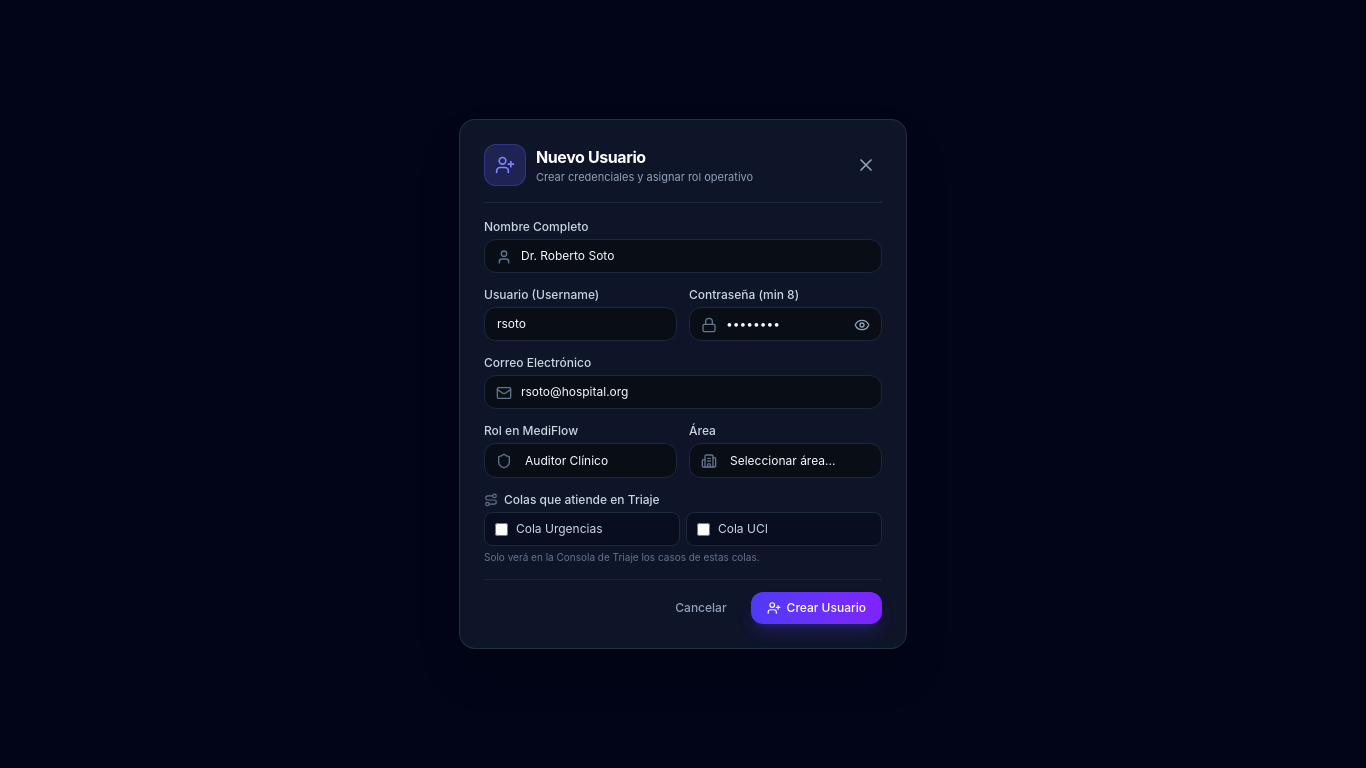
Scenario: UserFormModal user management and role assignment › validates password minimum length of 8 characters during creation
In the field labelled "Nombre Completo": (683, 256) [484,239,882,273], type "Dra. Ana Lopez"
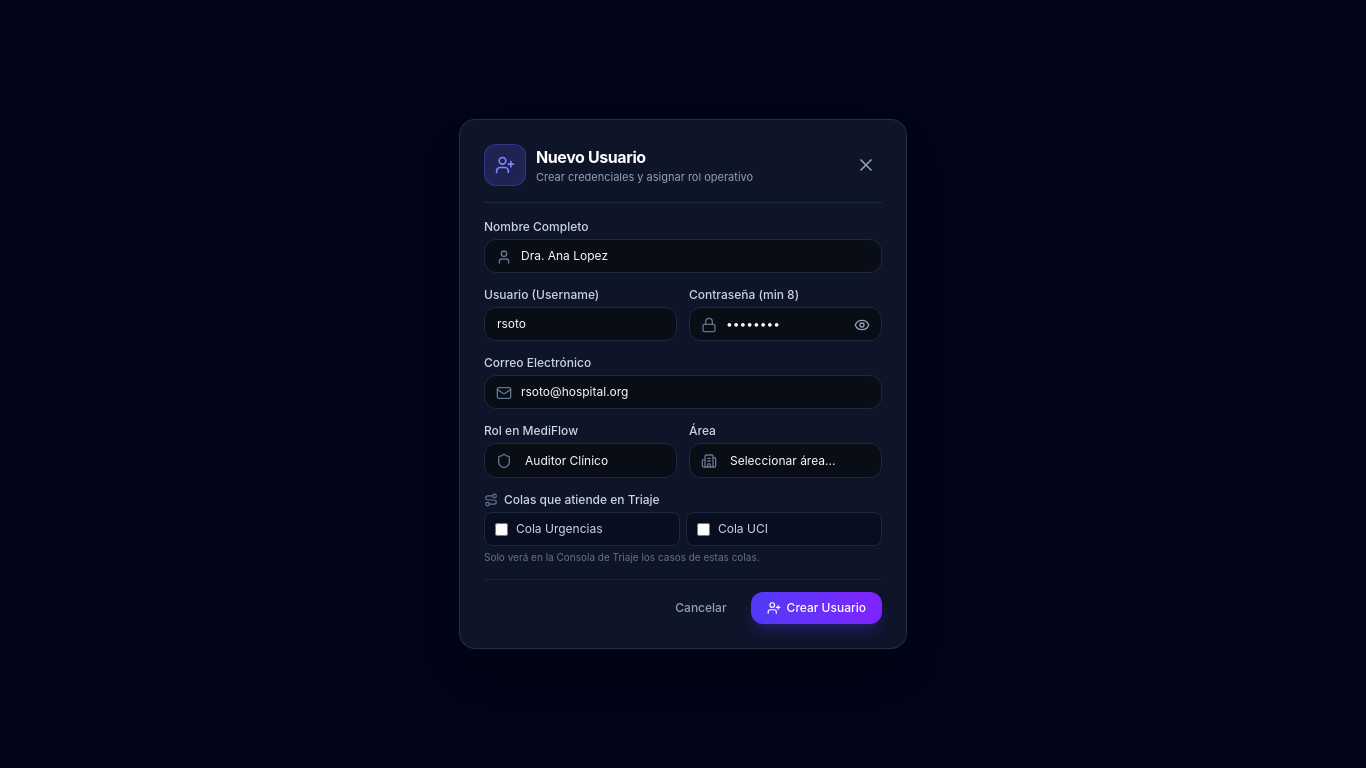
In the field labelled "Usuario (Username)": (580, 324) [484,307,677,341], type "alopez"
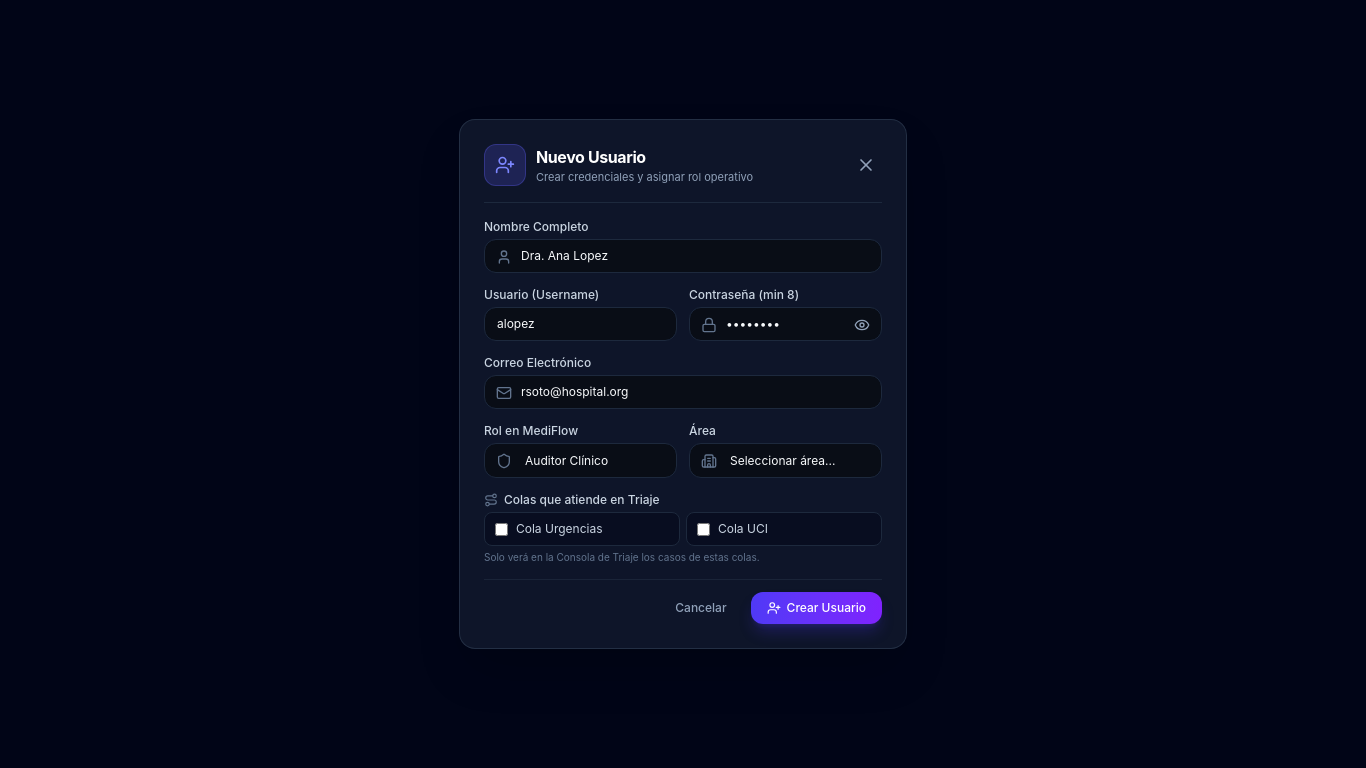
In the field labelled "Correo Electrónico": (683, 392) [484,375,882,409], type "alopez@hospital.org"
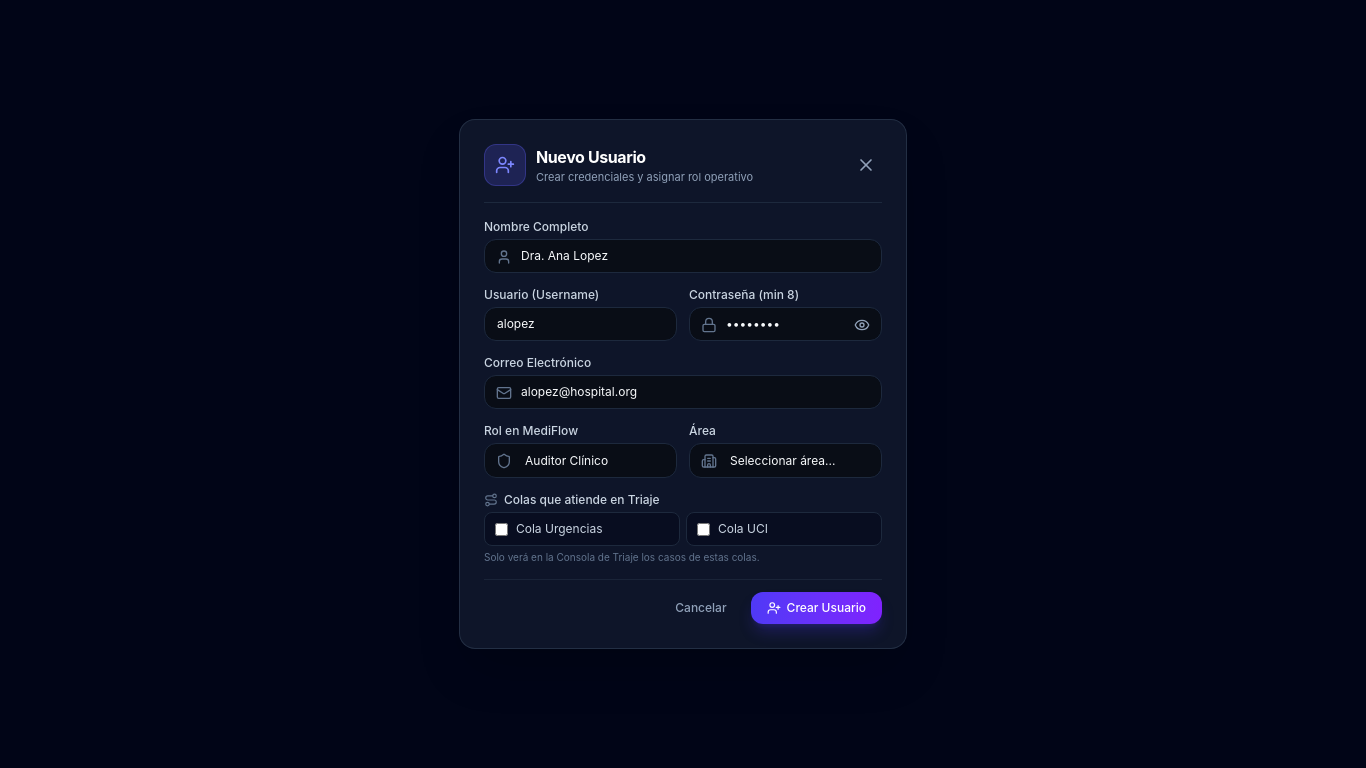
In the password field with placeholder "••••••••": (786, 324) [689,307,882,341], type "short"
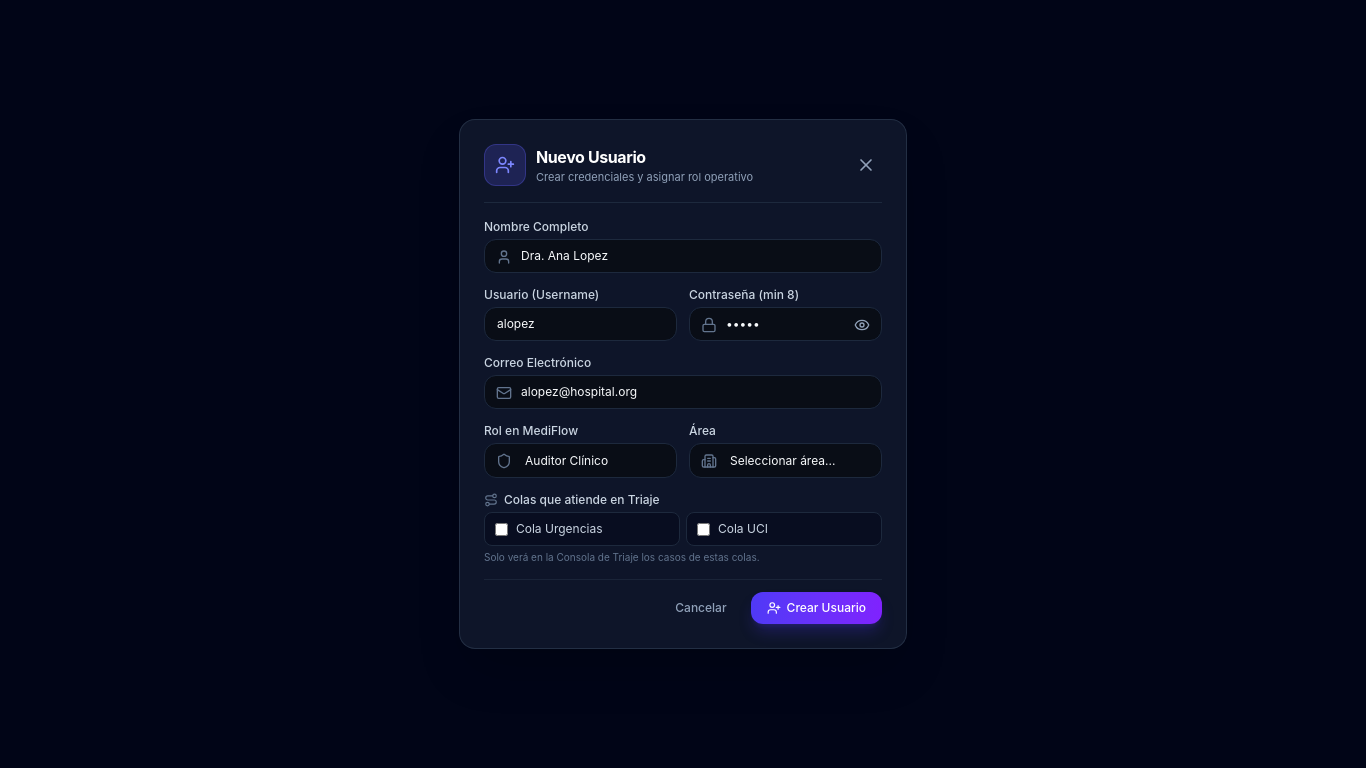
Select "Urgencias" in the dropdown labelled "Área": (786, 460) [689,443,882,478]
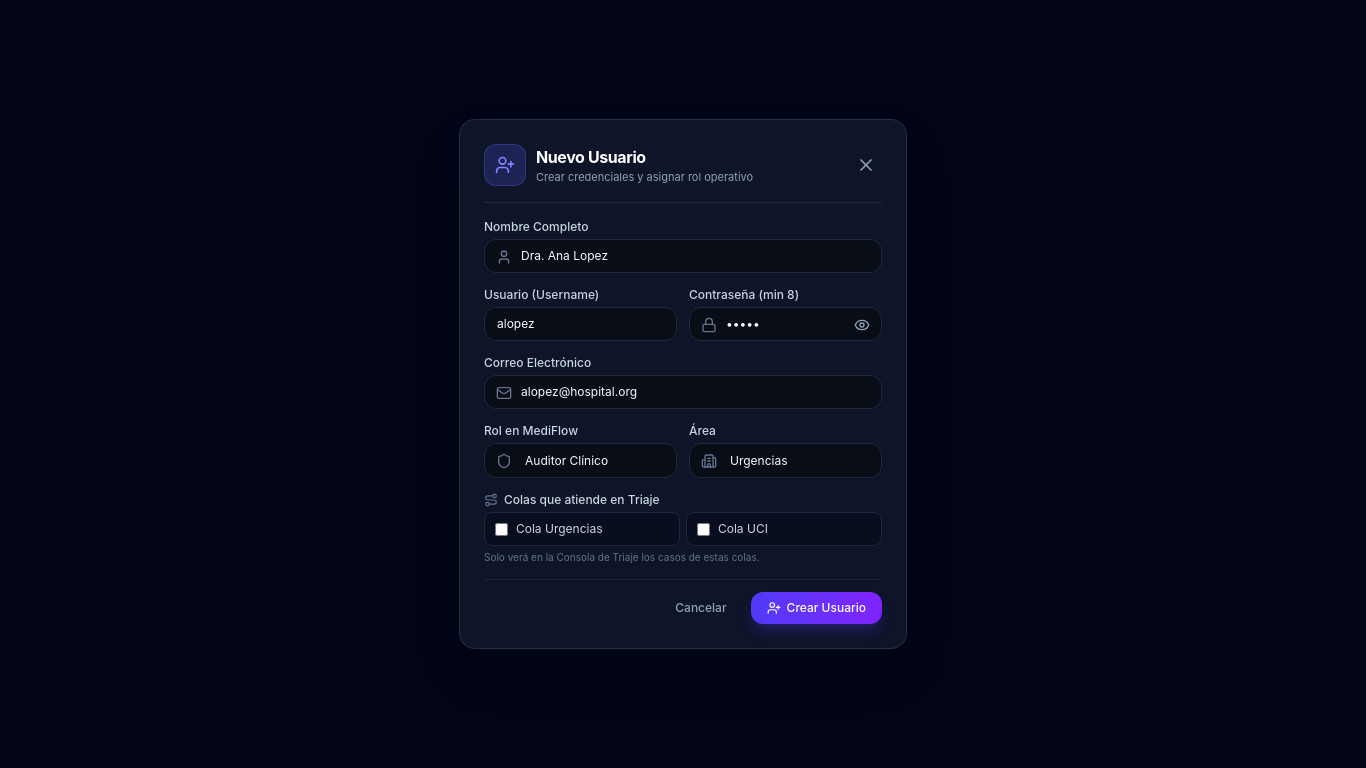
Submit the form from the button "Crear Usuario", box [751,592,882,624]
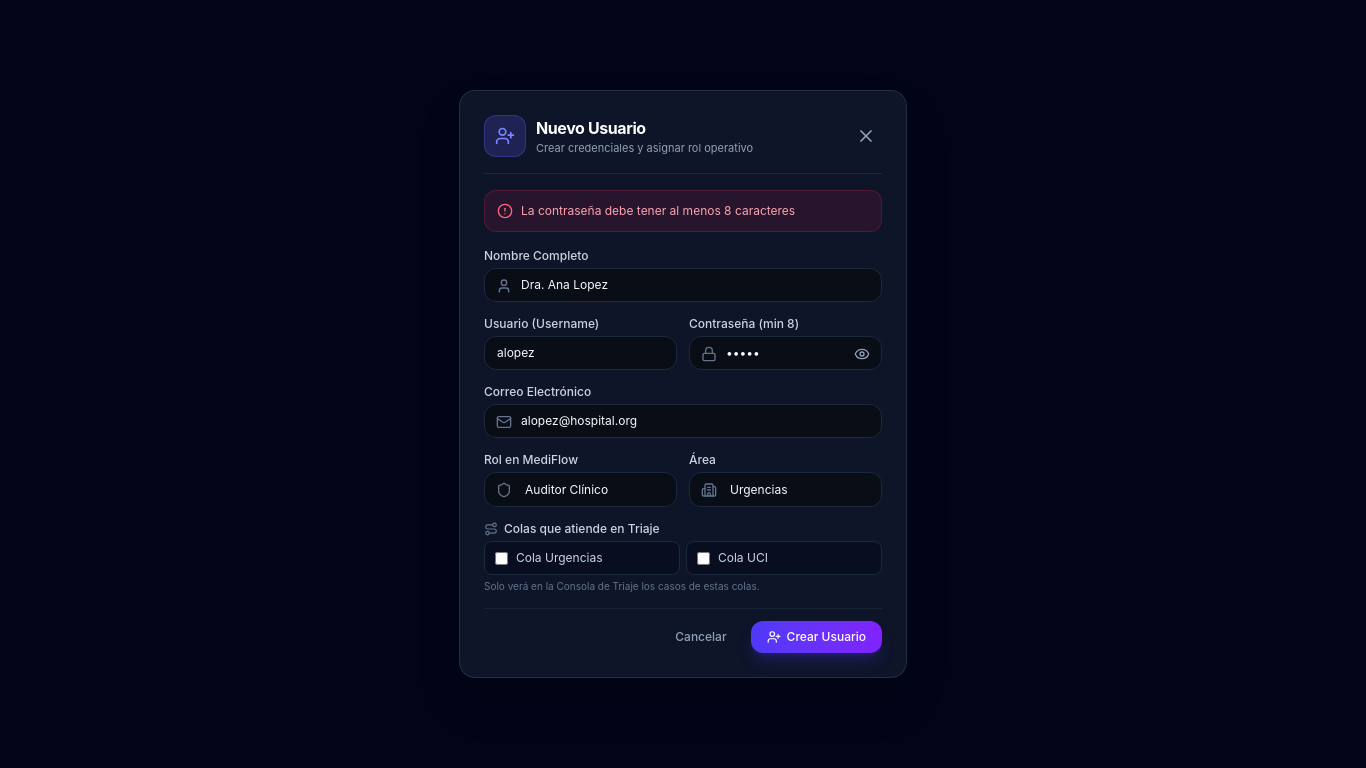
Result: the text "La contraseña debe tener al menos 8 caracteres" is shown at [521,203,795,219]
